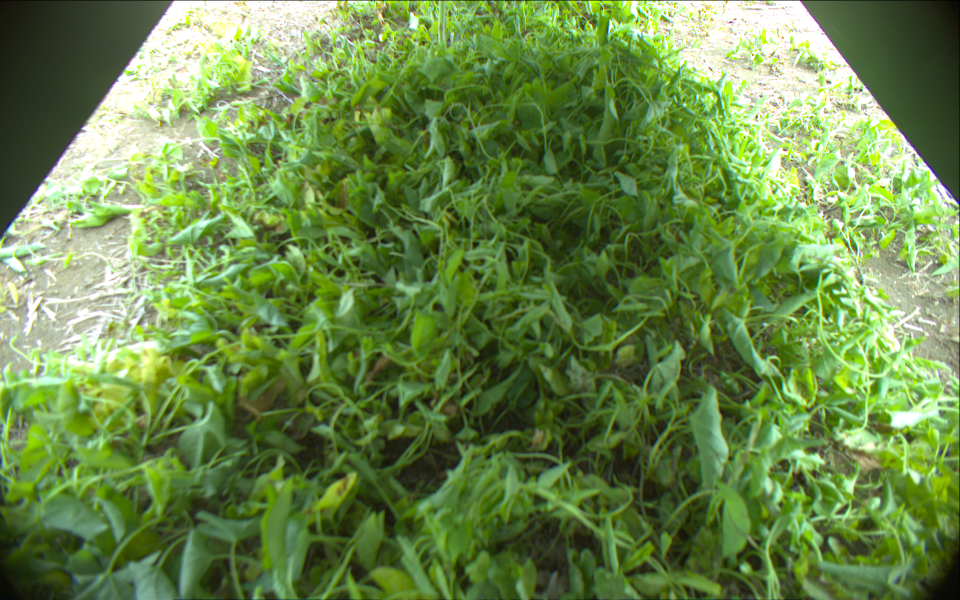aspa: (437, 1, 449, 48)
